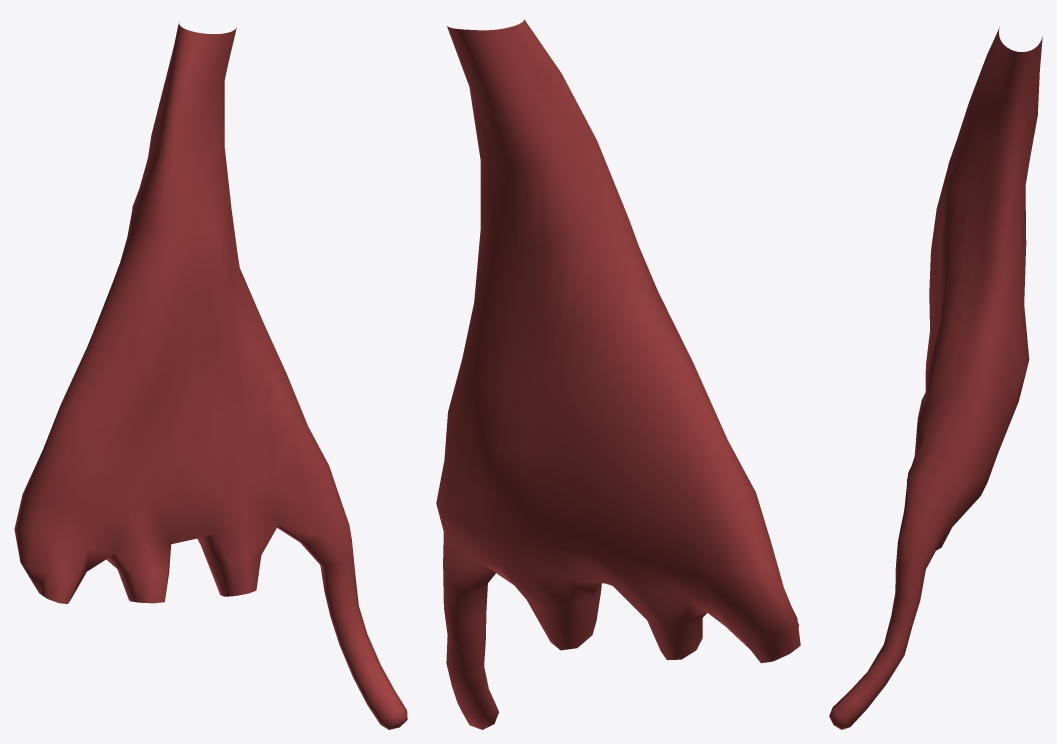
Rendered from common-flexor-tendon-sheath-r.glb.
3 views of the same model, side by side, from view 1: azimuth 30°, elevation 25°; view 2: azimuth 150°, elevation 25°; view 3: azimuth 270°, elevation 25° (orthographic). The views are drawn at different scales.
Visible parts, largest first — view 1: Common flexor tendon sheath.r; view 2: Common flexor tendon sheath.r; view 3: Common flexor tendon sheath.r.
Boxes of the visible parts, x1,y1,x2,y2 form: Common flexor tendon sheath.r: (14,23,407,729); Common flexor tendon sheath.r: (436,19,800,729); Common flexor tendon sheath.r: (829,27,1042,729).
Size of the model in its own units: 0.0622 by 0.1215 by 0.0359.
